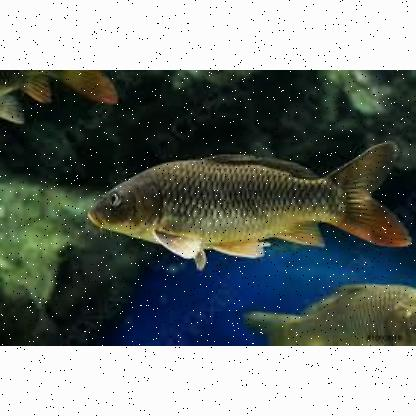ikan-mas: (84, 140, 400, 260)
